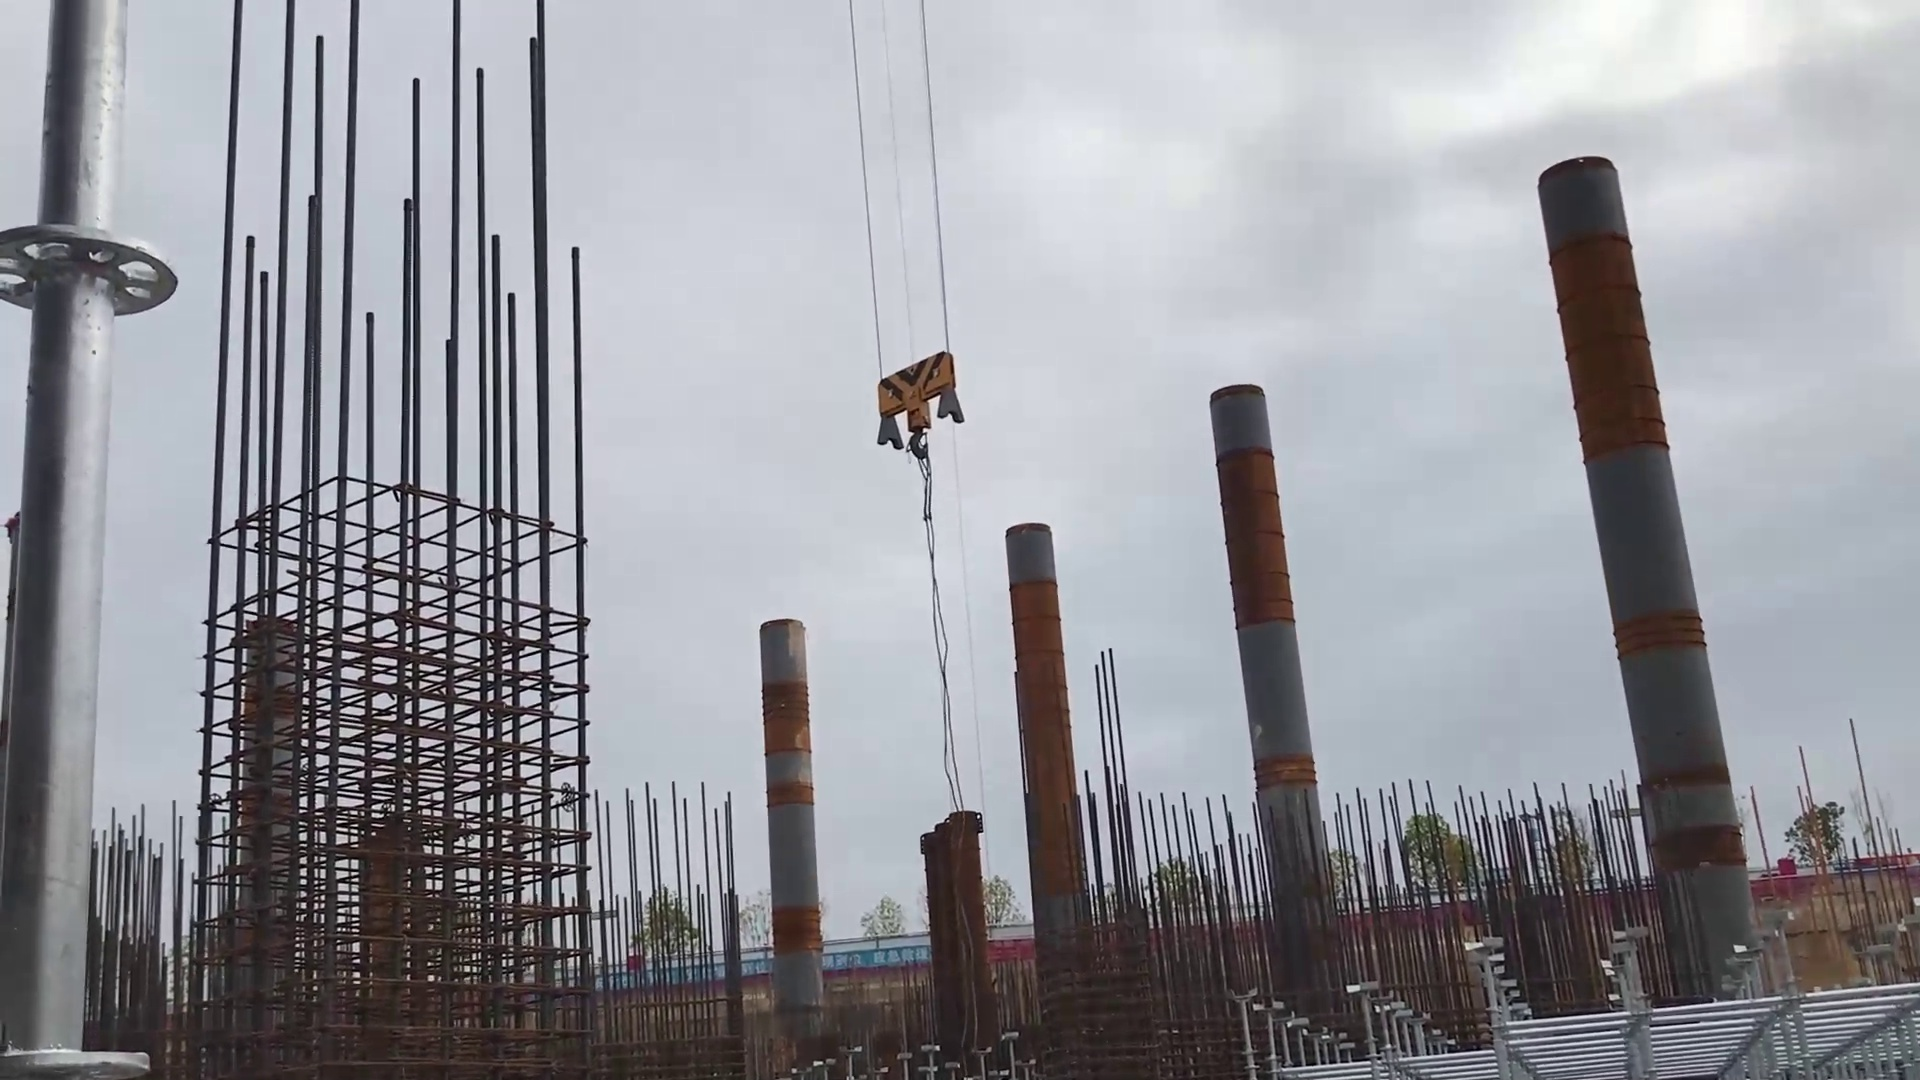hook: (847, 345, 982, 481)
